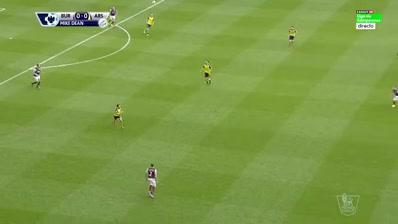futbol: (150, 0, 159, 6)
player: (142, 161, 162, 201), (29, 61, 43, 92), (112, 102, 126, 131), (200, 59, 214, 87), (143, 12, 157, 38), (109, 5, 119, 31), (287, 25, 298, 48), (390, 84, 397, 111)
